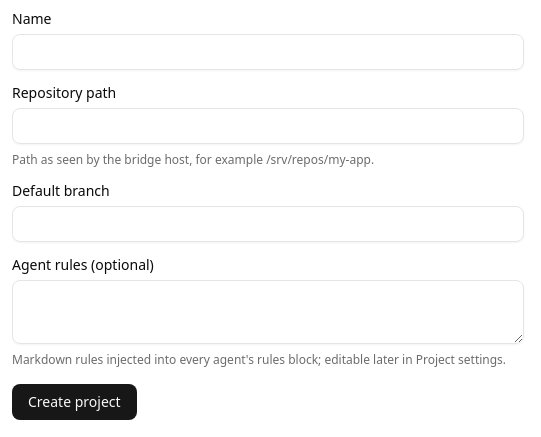
Test case: CreateProjectForm › creates via POST /projects, shows the backend-assigned PID and invalidates the list
The width and height of the screenshot is (541, 437).
In the field labelled "Name": (268, 52) [12, 34, 524, 70], type "Tea Factory ERP"
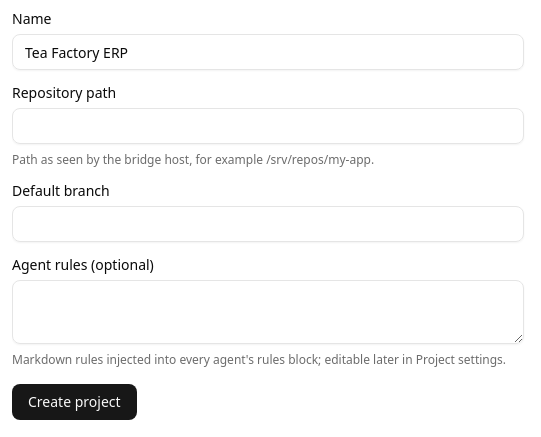
In the field labelled "Repository path": (268, 126) [12, 108, 524, 144], type "/srv/repos/tea"
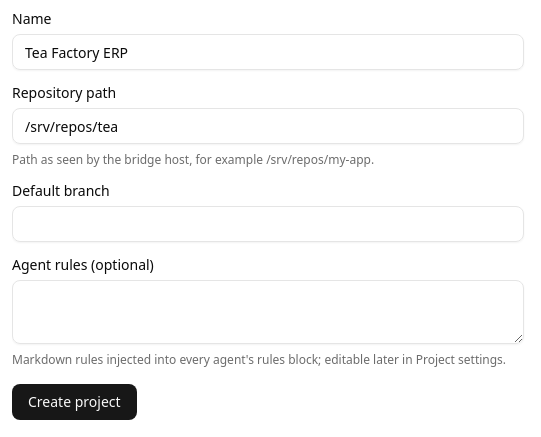
In the field labelled "Default branch": (268, 224) [12, 206, 524, 242], type "main"
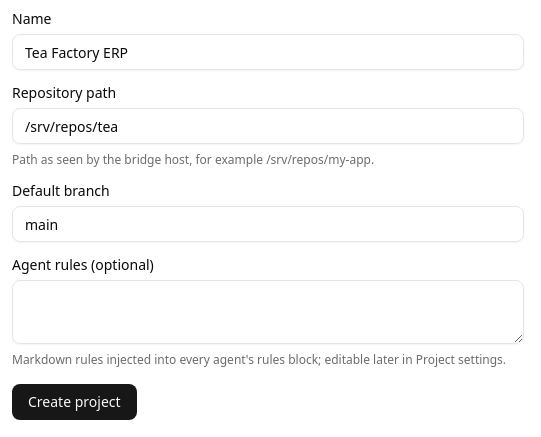
Click the button "Create project": (74, 402) [12, 384, 137, 420]
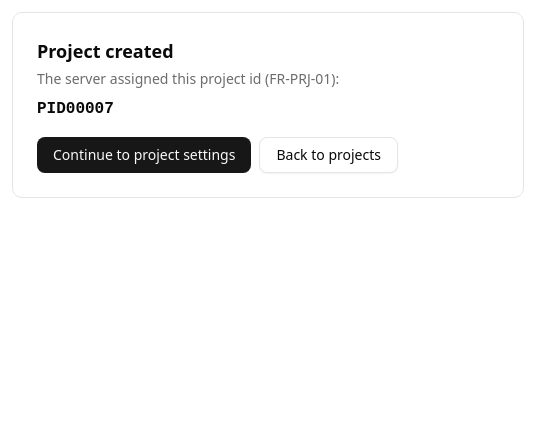
Check: the text with test id "created-pid" reads "PID00007", box [37, 100, 114, 118]
Check: the link "Continue to project settings" is shown, box [37, 137, 251, 173]
